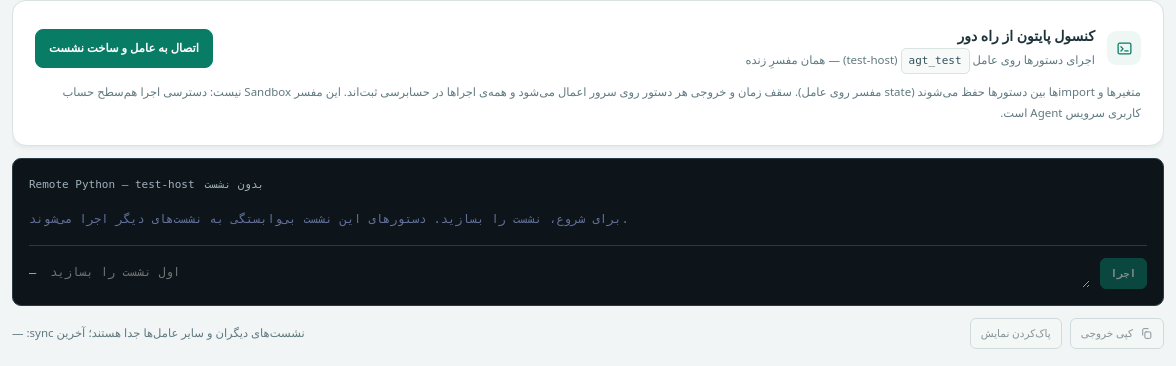
Test: keeps a live console session and reports a failed termination, allowing retry
Click the button "اتصال به عامل و ساخت نشست" at [124, 48], box [35,29,213,68]
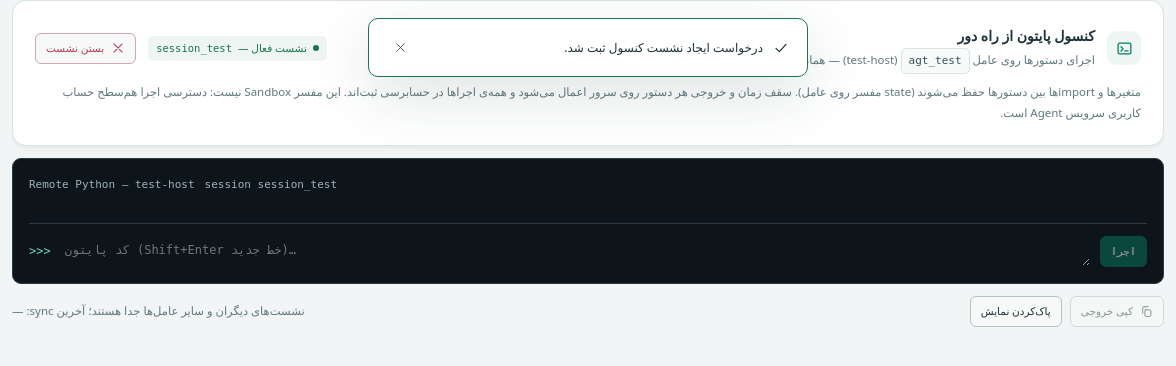
Click the button "بستن نشست" at [86, 48], box [35,33,136,64]
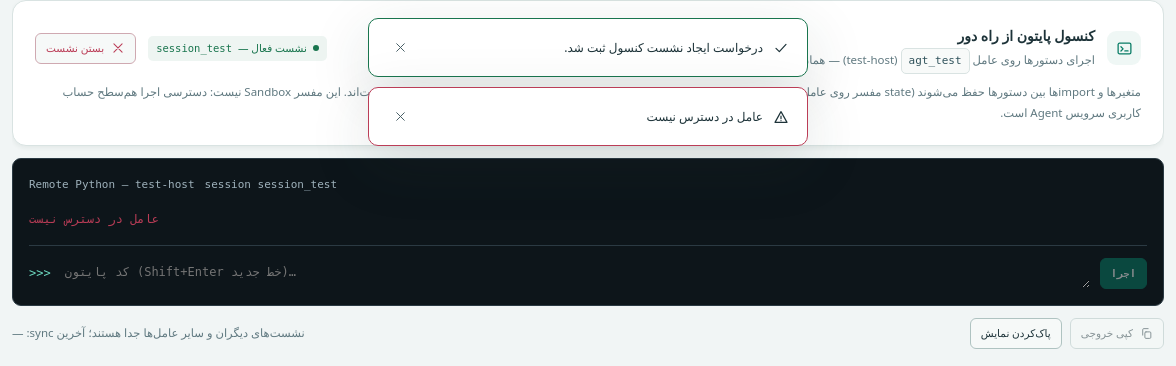
Check: the text "نشست کنسول بسته شد." is not shown
Check: the text box is enabled, box [61,258,1090,288]
Check: the text "عامل در دسترس نیست" is shown 2 times, box [29,212,159,226]; [646,108,763,125]
Click the button "بستن نشست" at [86, 48], box [35,33,136,64]
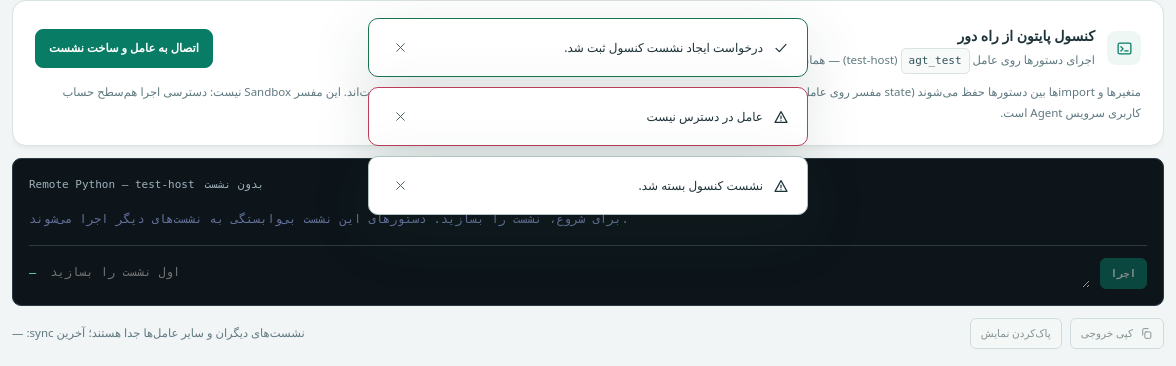
Check: the button "اتصال به عامل و ساخت نشست" is enabled, box [35,29,213,68]
Check: the element with class "terminal-out" no longer shows "عامل در دسترس نیست"
